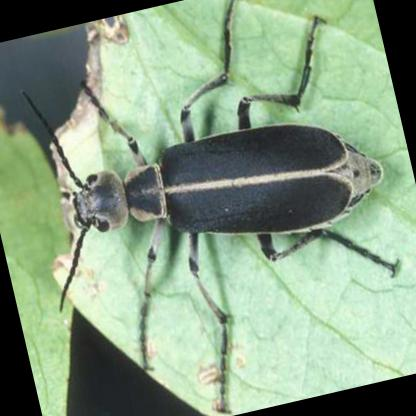blister beetle: (24, 71, 383, 322)
